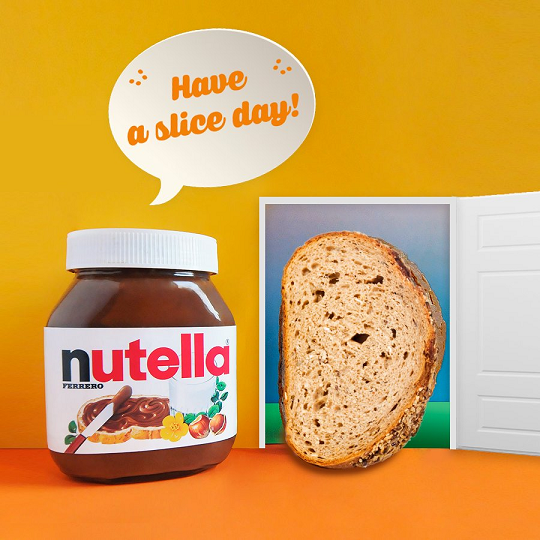nutella: (42, 228, 239, 485)
